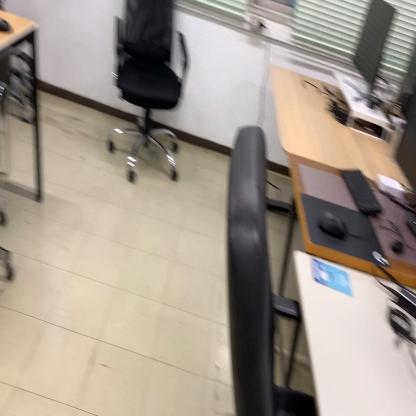chair: (224, 122, 313, 416), (102, 1, 192, 190)
